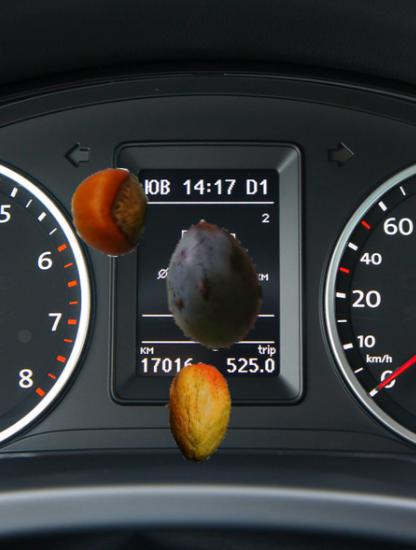Nut: (64, 167, 153, 256)
Papaya: (147, 362, 249, 464)
Plum: (148, 219, 280, 351)
